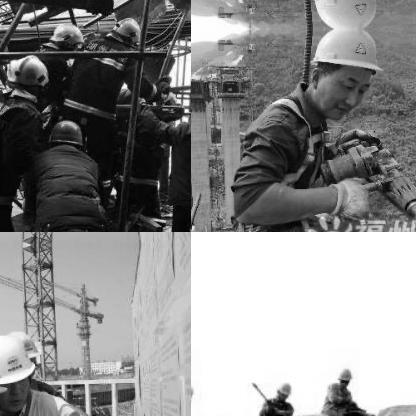Helmet: (298, 27, 390, 121), (298, 0, 391, 29), (0, 333, 33, 404), (6, 50, 52, 93), (47, 118, 85, 154), (8, 324, 40, 364), (48, 20, 82, 52), (114, 18, 138, 46), (332, 366, 352, 388), (273, 381, 289, 399)
